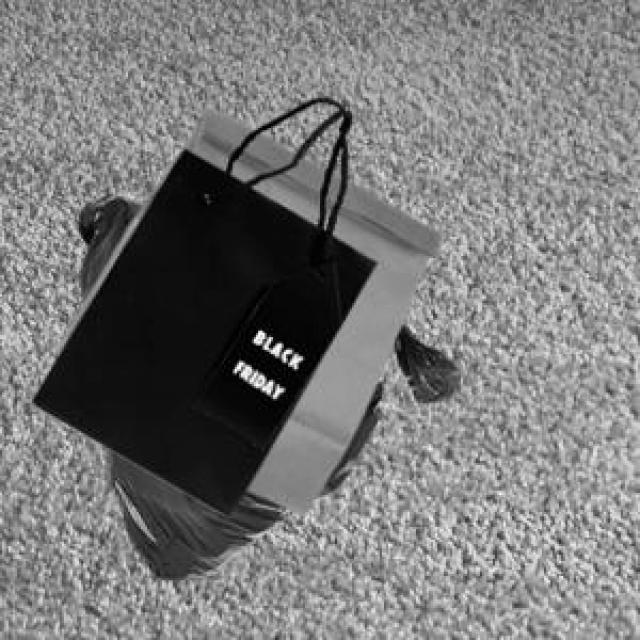miscellaneous trash: (75, 188, 457, 576)
paper: (56, 105, 437, 510), (28, 94, 373, 512)
